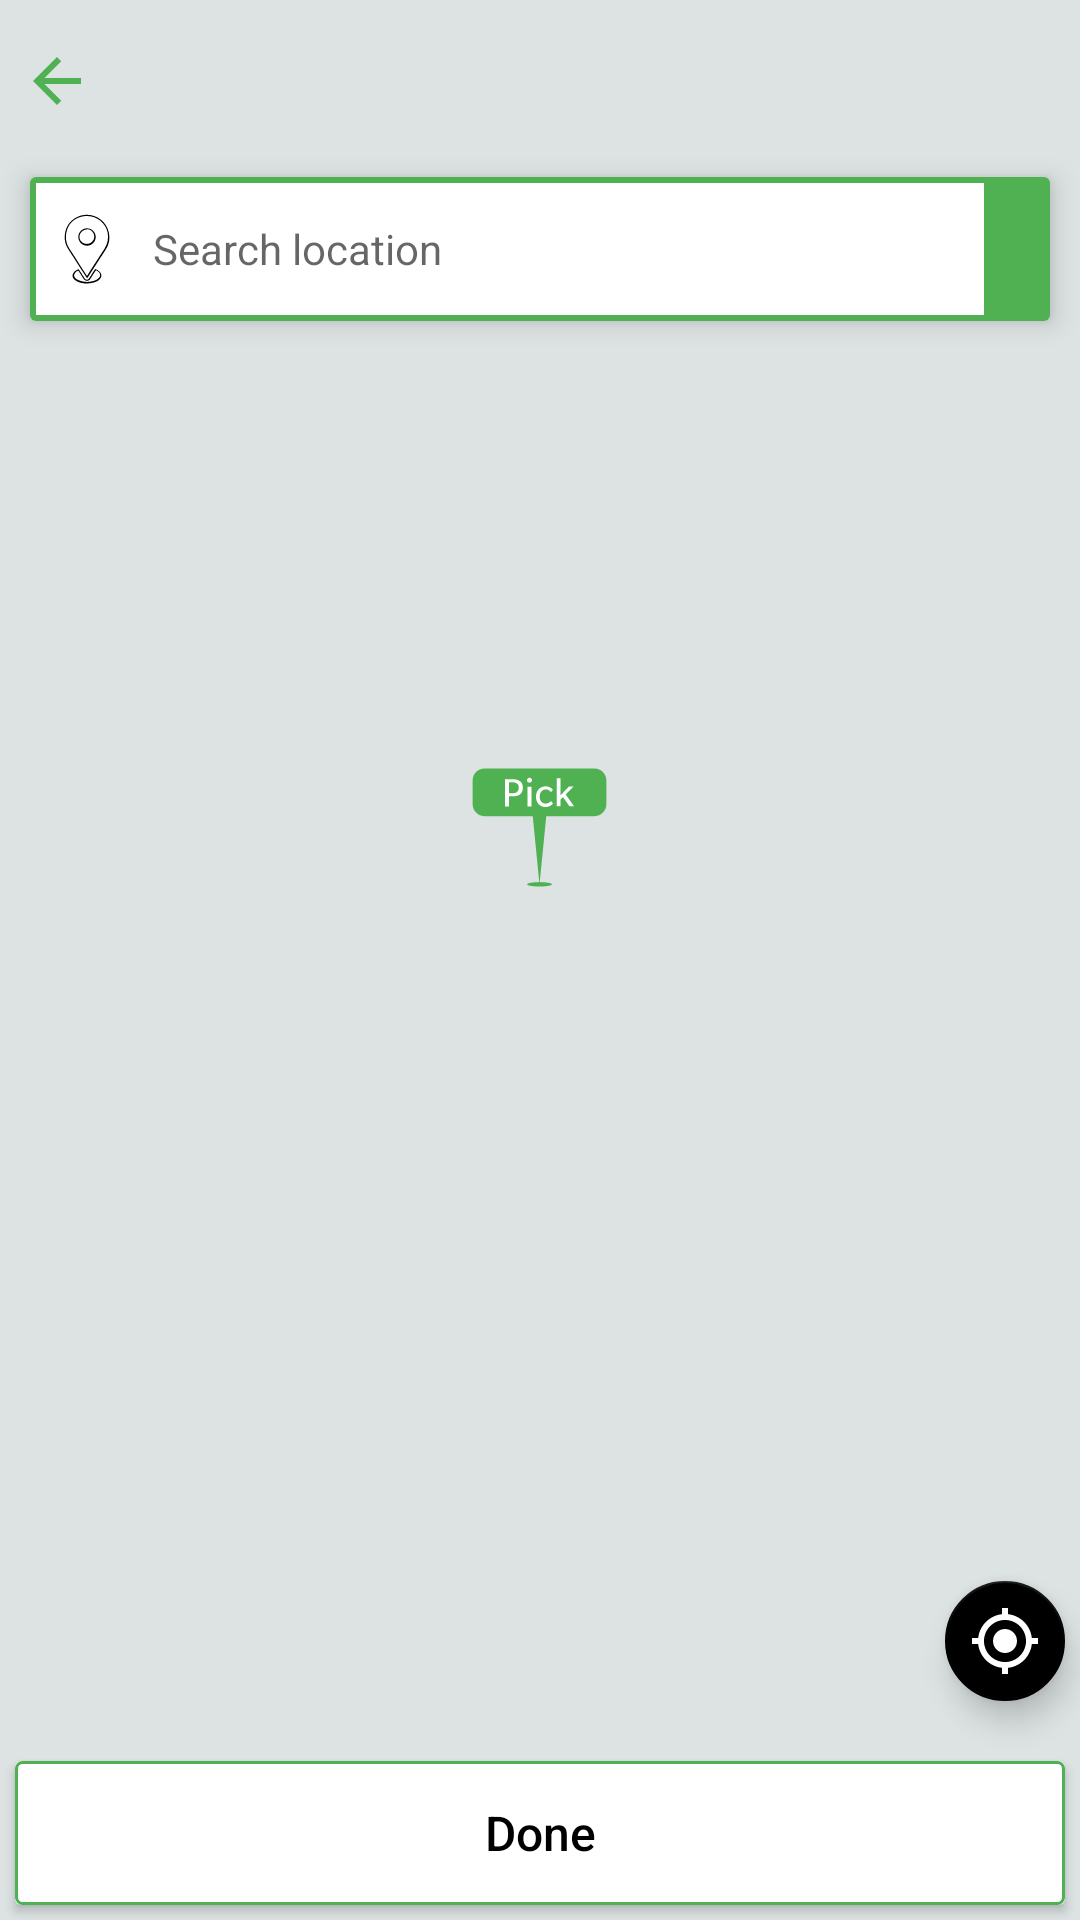

Screen size 1080 × 1920. Icon name, then its box in pixels as (x1, y1, x2, y2):
arrow back: (33, 57, 81, 105)
